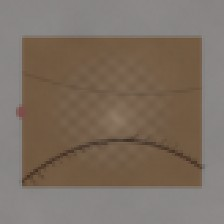pinguecula_lesion: (160, 95, 200, 127)
